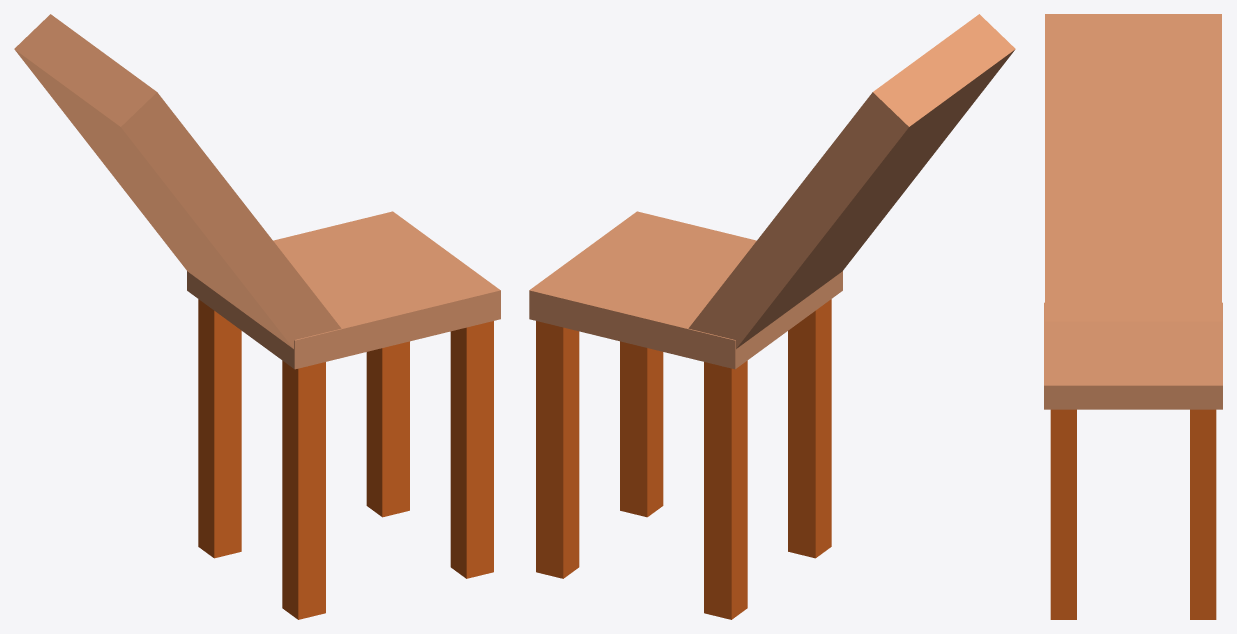
Rendered from kursi umum.fbx.
The picture shows the model from 3 angles, left to right: view 1: azimuth 30°, elevation 25°; view 2: azimuth 150°, elevation 25°; view 3: azimuth 270°, elevation 25°; orthographic projection. The views are drawn at different scales.
Visible parts, largest first — view 1: Cube.005, Cube.004, Cube.001, Cube, Cube.003, Cube.002; view 2: Cube.005, Cube.004, Cube.003, Cube.002, Cube.001, Cube; view 3: Cube.005, Cube.004, Cube, Cube.002.
Boxes of the visible parts, x1,y1,x2,y2 form: Cube.005: (14,14,341,366); Cube.004: (187,211,500,369); Cube.001: (282,360,325,619); Cube: (450,321,493,578); Cube.003: (198,299,241,558); Cube.002: (366,341,409,517); Cube.005: (688,14,1015,366); Cube.004: (529,211,842,369); Cube.003: (704,360,747,619); Cube.002: (536,321,579,578); Cube.001: (788,299,831,558); Cube: (620,341,663,517); Cube.005: (1045,14,1221,321); Cube.004: (1044,302,1222,409); Cube: (1050,409,1076,619); Cube.002: (1190,409,1216,619).
Size of the model in its own units: 2754 by 3923 by 1357.
